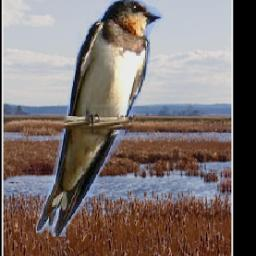Swallow: (36, 0, 164, 238)
